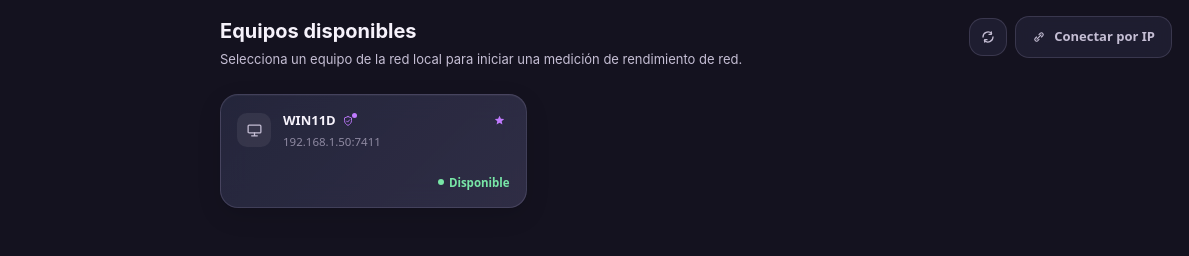
Test: Inicio: menú contextual de un equipo › un equipo favorito ofrece quitarlo de favoritos
Right-click the list item: (373, 151) x1=220 y1=94 x2=527 y2=208
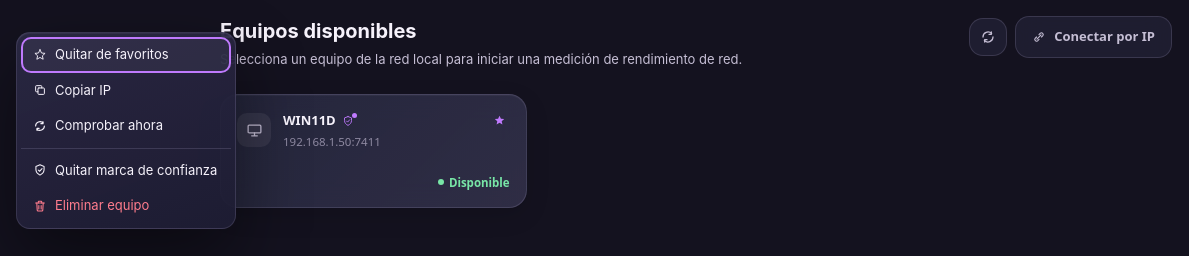
Check: the menu item "Quitar de favoritos" is shown, box x1=21 y1=37 x2=231 y2=72
